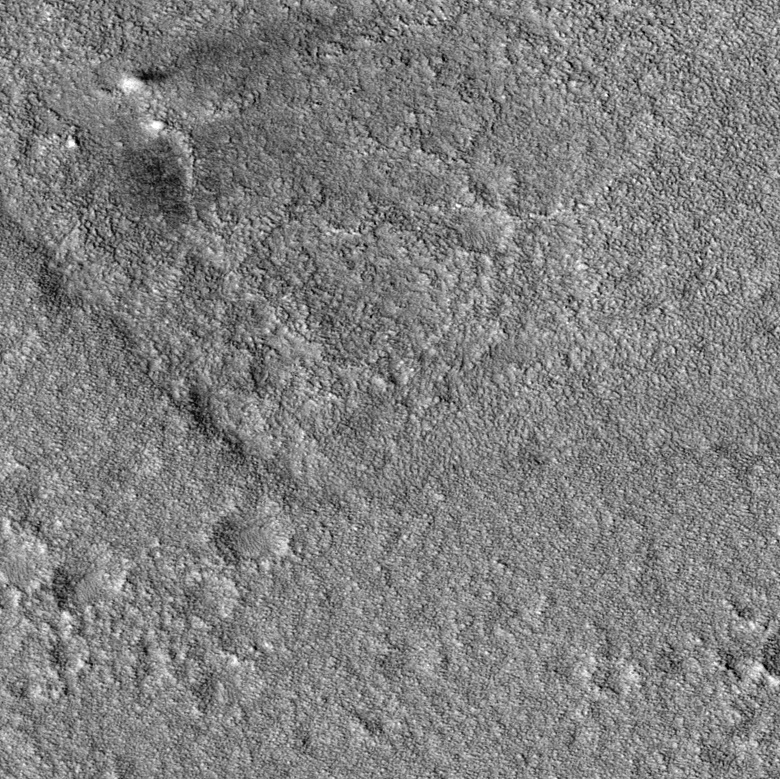dust_devil: (120, 37, 238, 96)
